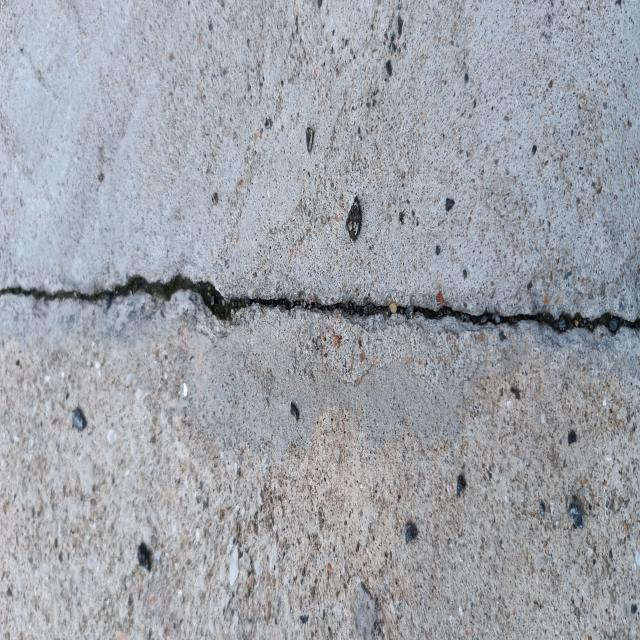horizontal crack: (0, 275, 640, 333)
